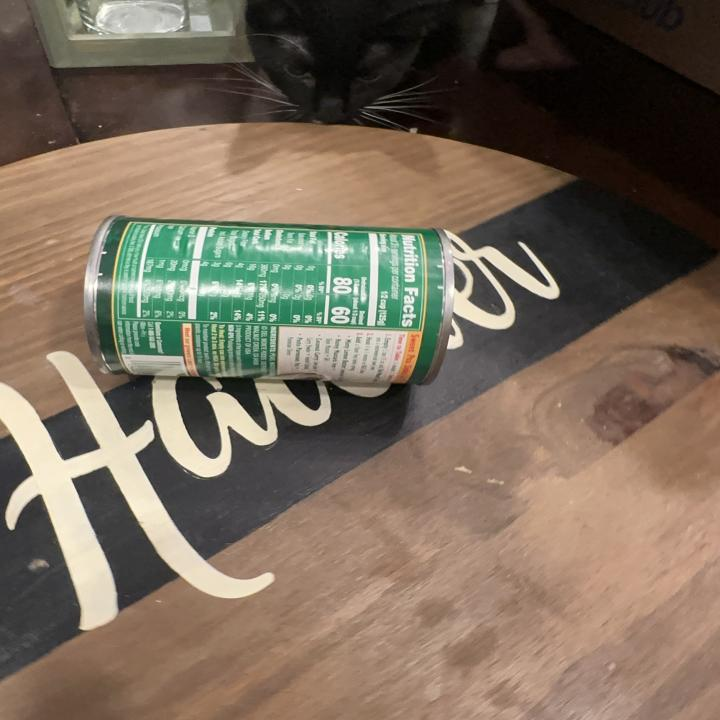Canned-Peas: (80, 208, 457, 400)
